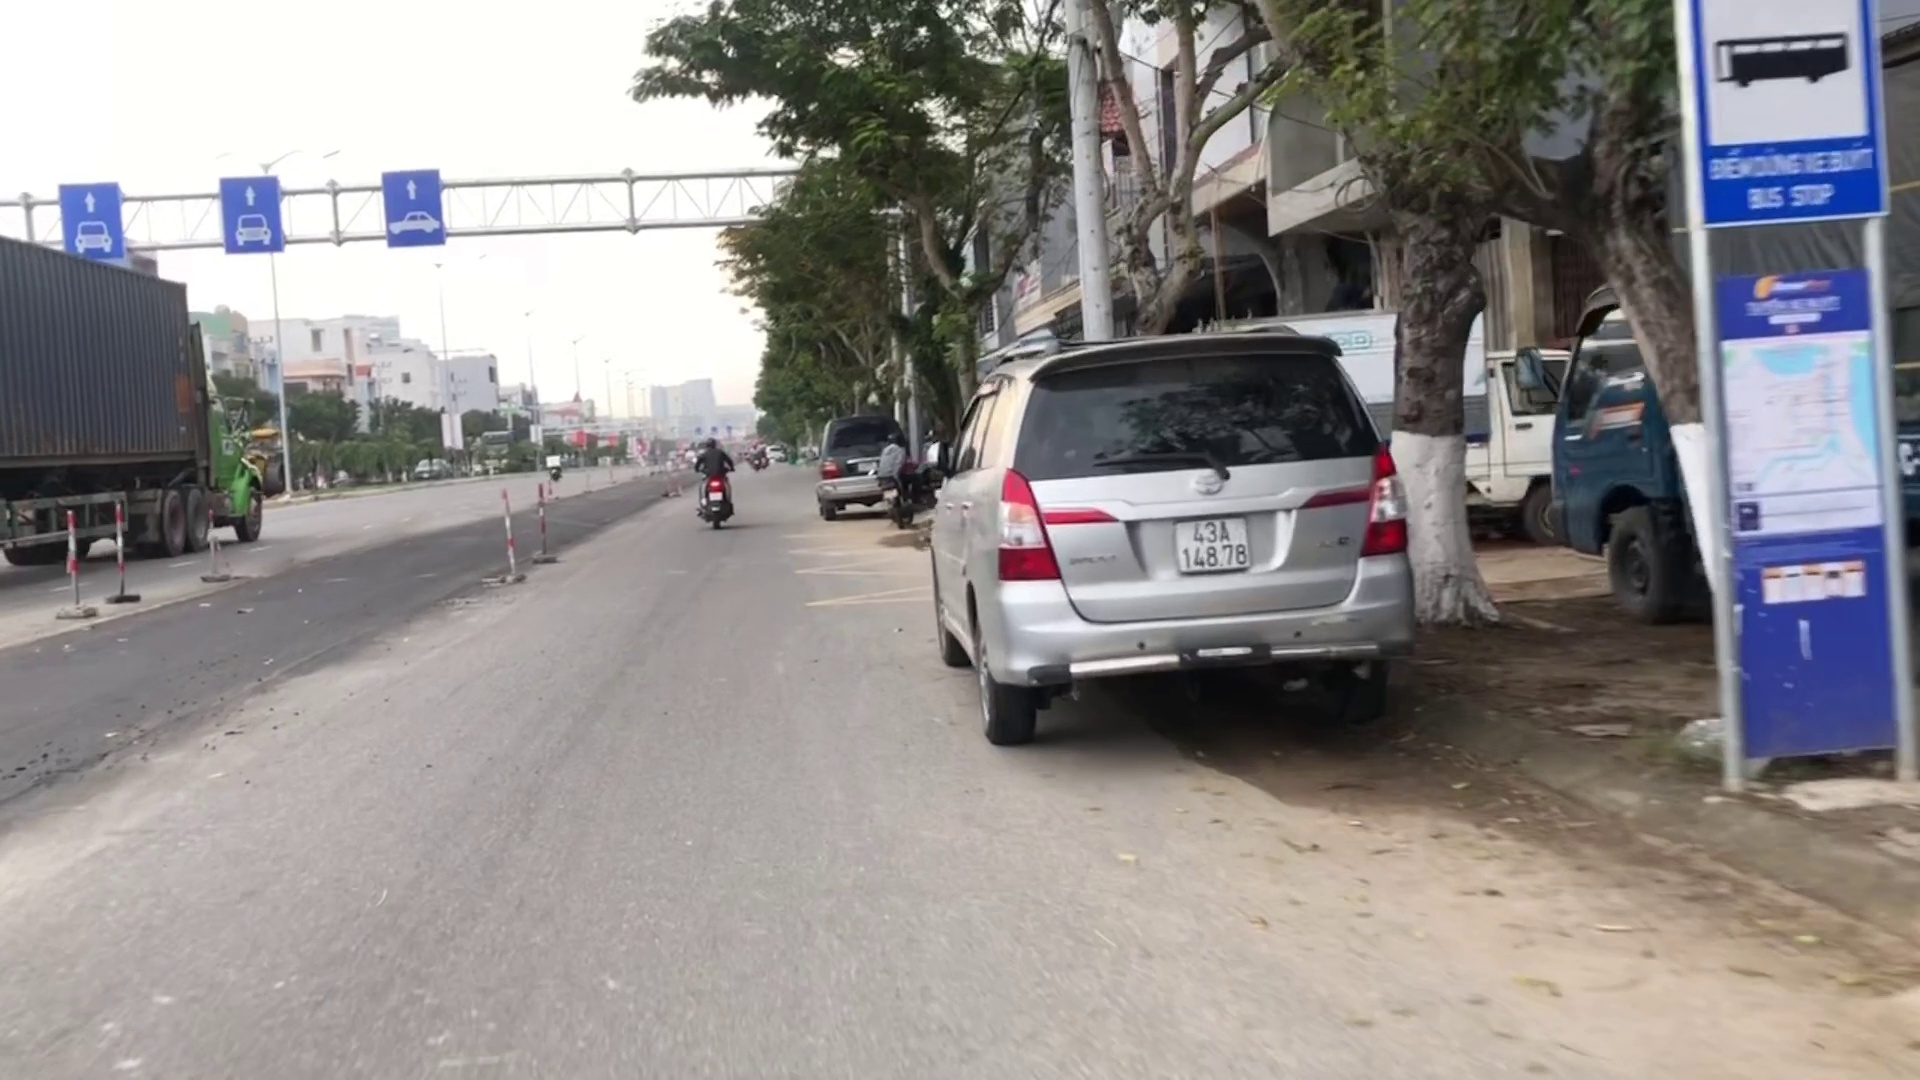Bien khac: (1700, 0, 1878, 229)
